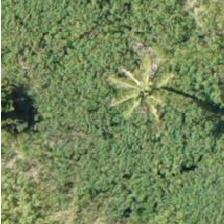coconut_tree: (91, 44, 181, 134)
